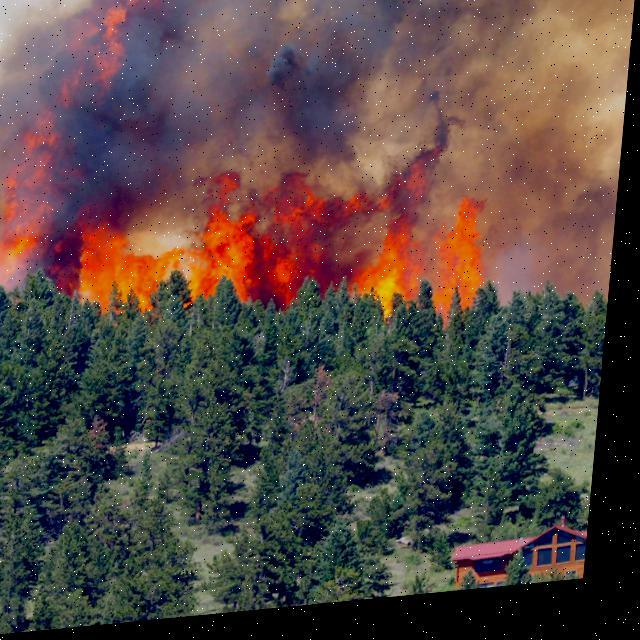Fire: (0, 0, 525, 374)
